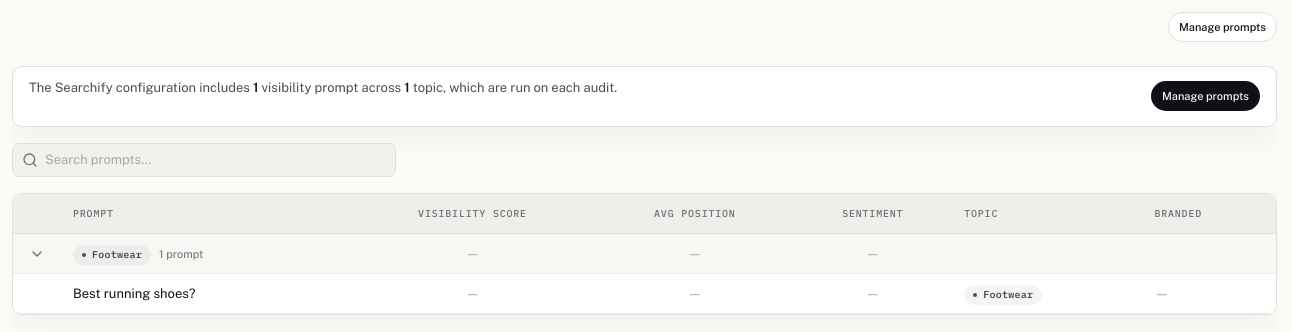
PromptsPage (Your Prompts) › toggles between the read view and manage mode via the in-page controls
Expected: the text "configuration includes" is shown, 113,80 -> 250,95
Click the button "Manage prompts": (1222, 27) 1168,12 -> 1277,42
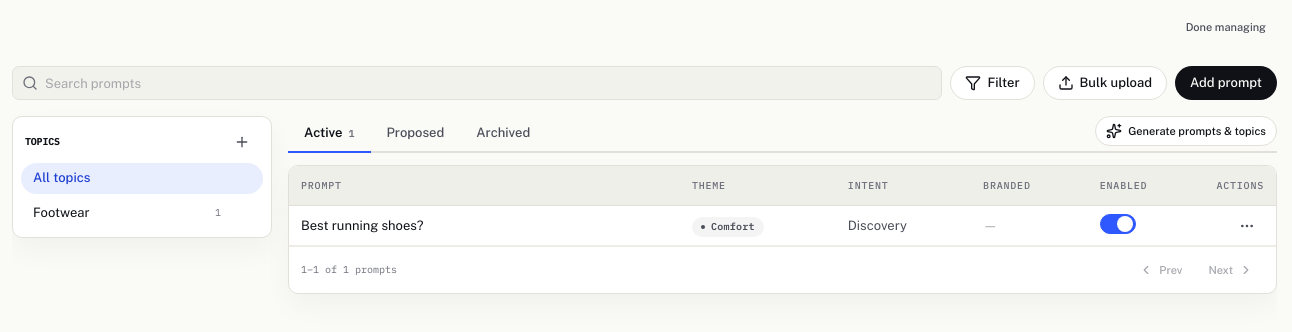
Expected: the button "Generate prompts & topics" is shown, 1095,116 -> 1277,146
Exiting returns to the read view without a navigation.
Click the button "Done managing": (1226, 27) 1175,12 -> 1277,42
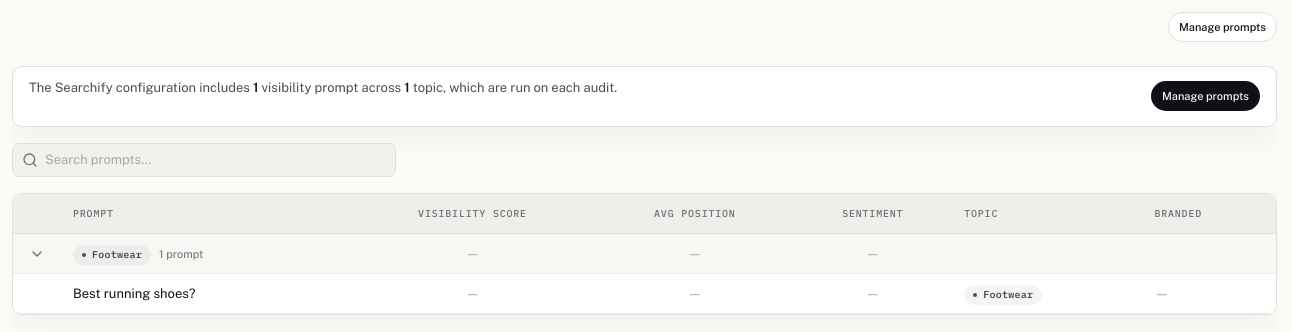
Expected: the text "configuration includes" is shown, 113,80 -> 250,95
Expected: the button "Manage prompts" is shown, 1168,12 -> 1277,42
